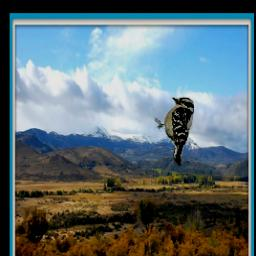Woodpecker: (154, 96, 195, 167)
